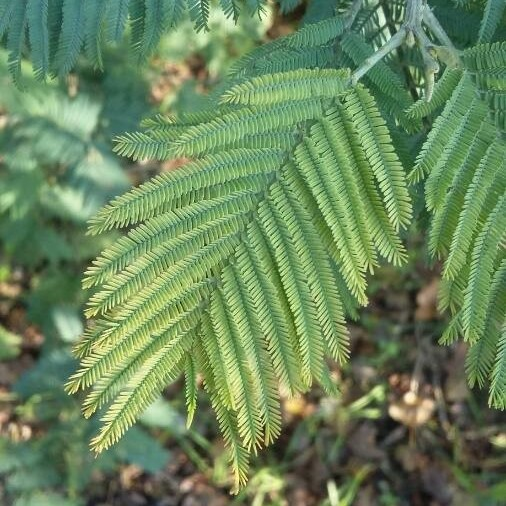obstacle: (88, 59, 374, 472)
